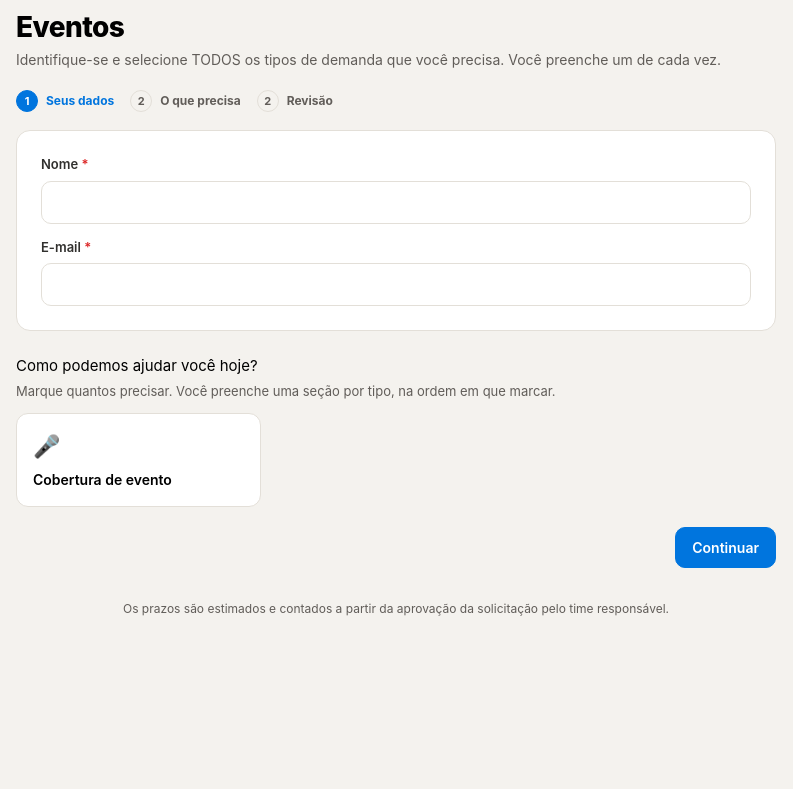
seção repetível › ⚠️ o erro diz QUAL repetição ficou incompleta
The image size is (793, 789).
Type "Maria do Polo" into the field labelled "Nome *".
click(396, 202); type("Maria do Polo")  # box [41,181,751,224]
Type "maria@polo.ex" into the field labelled "E-mail *".
click(396, 285); type("maria@polo.ex")  # box [41,263,751,306]
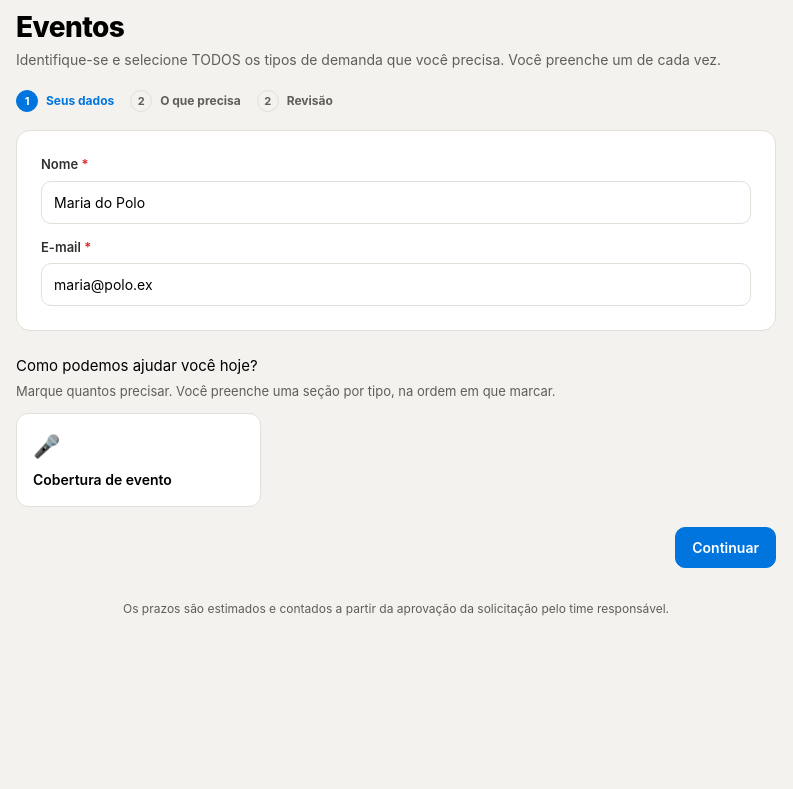
Click the text "Cobertura de evento".
click(102, 480)  # box [33,469,172,490]
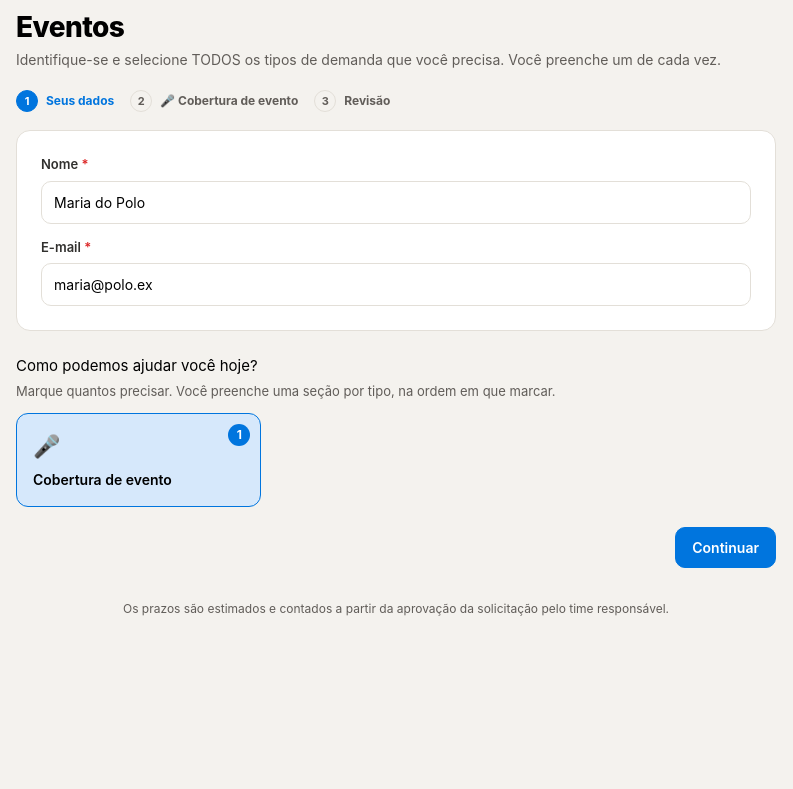
Click the button "Continuar".
click(726, 548)  # box [675,527,776,568]
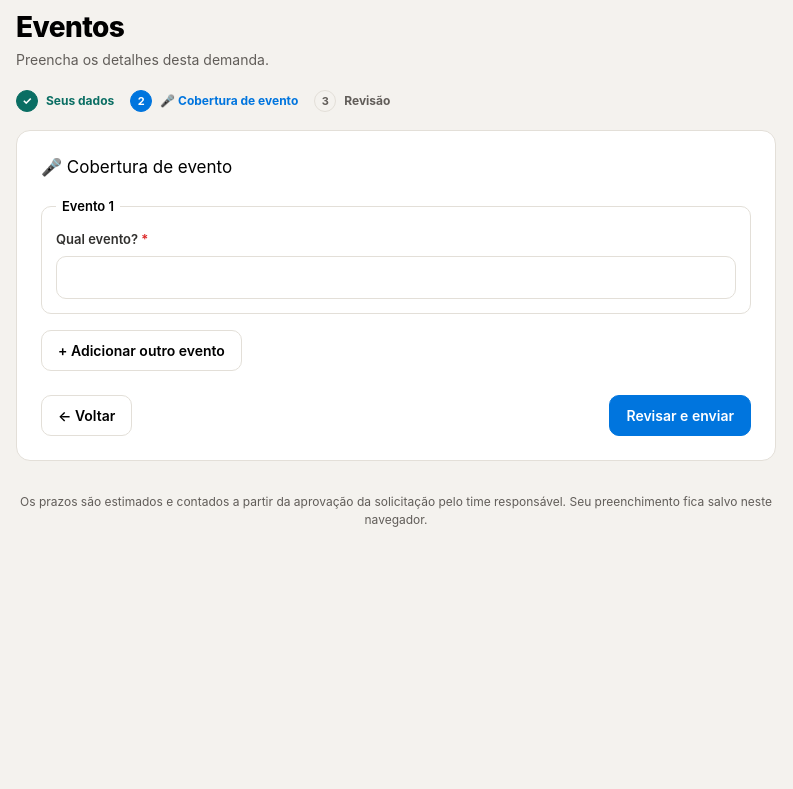
Click the button "+ Adicionar outro evento".
click(141, 350)  # box [41,330,242,371]
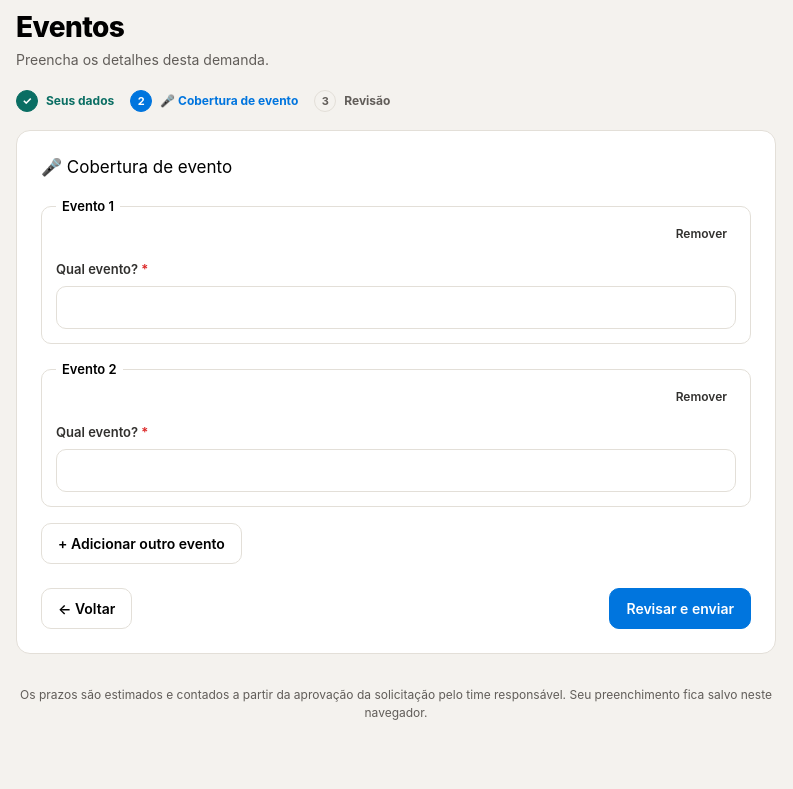
Type "Feira" into the 1st field labelled "Qual evento? *".
click(396, 307); type("Feira")  # box [56,286,736,329]
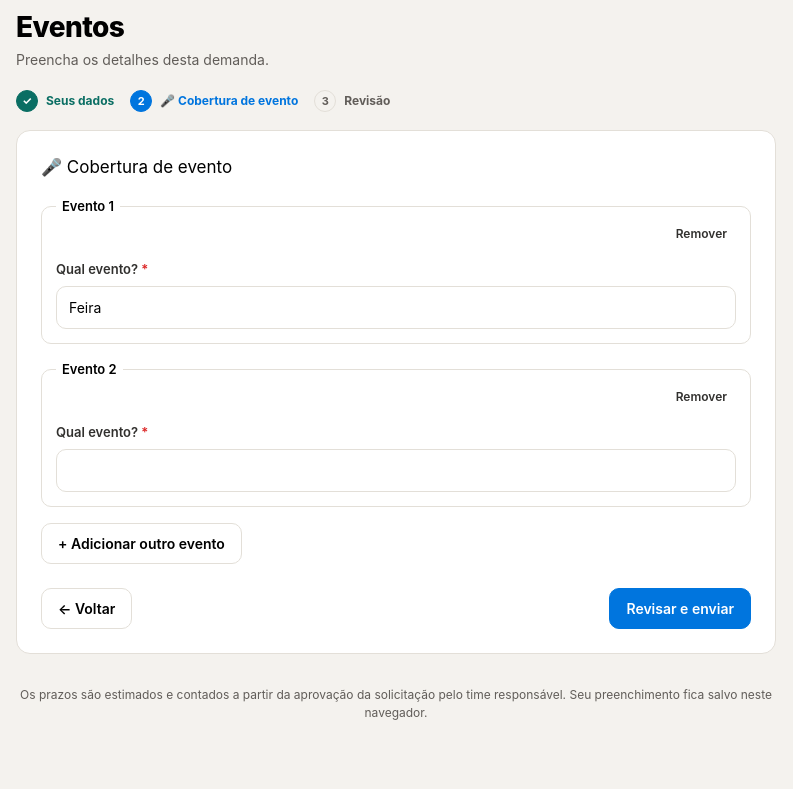
Click the button "Revisar e enviar".
click(680, 608)  # box [609,588,751,629]
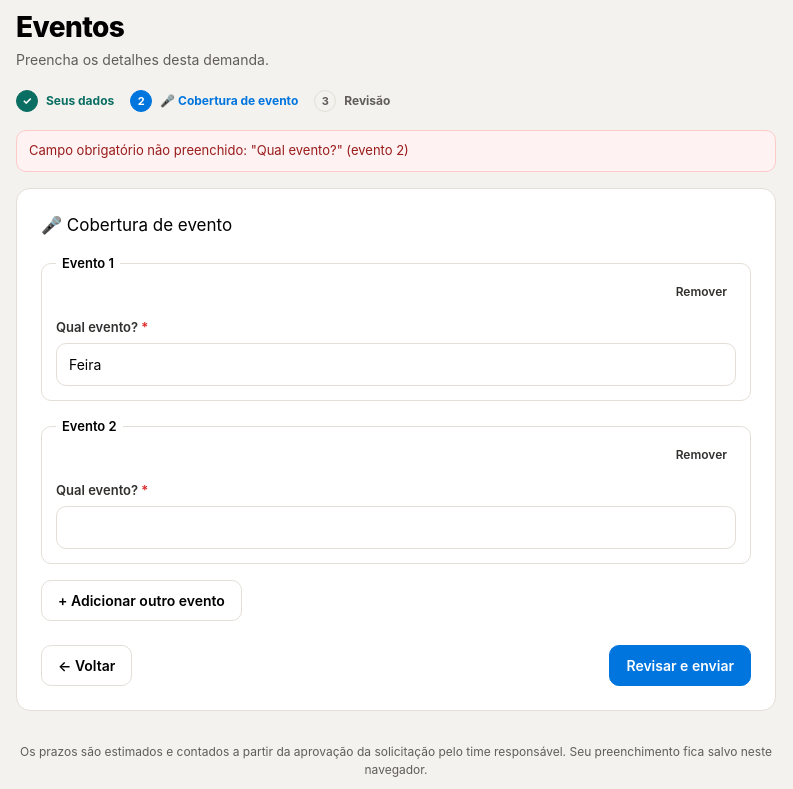
Now the message reads "Campo obrigatório não preenchido: \"Qual evento?\" (evento 2)", box [29,142,409,158]
